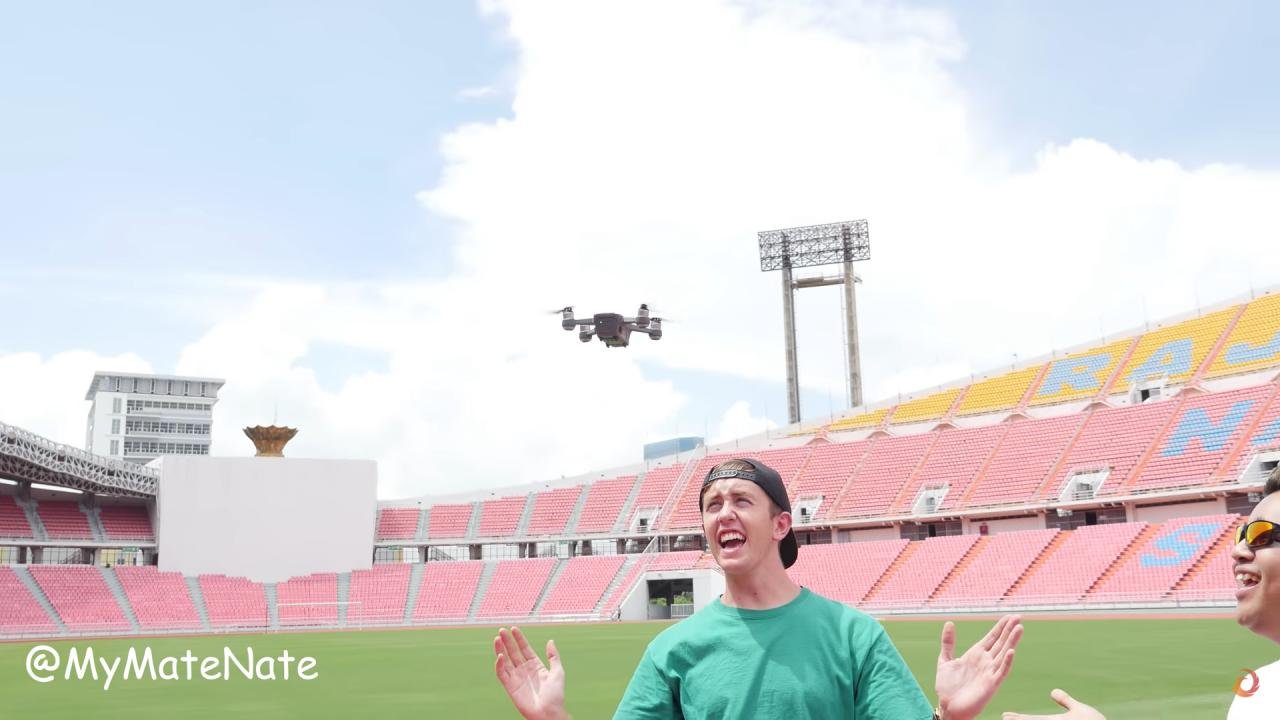Drone: (532, 290, 680, 358)
